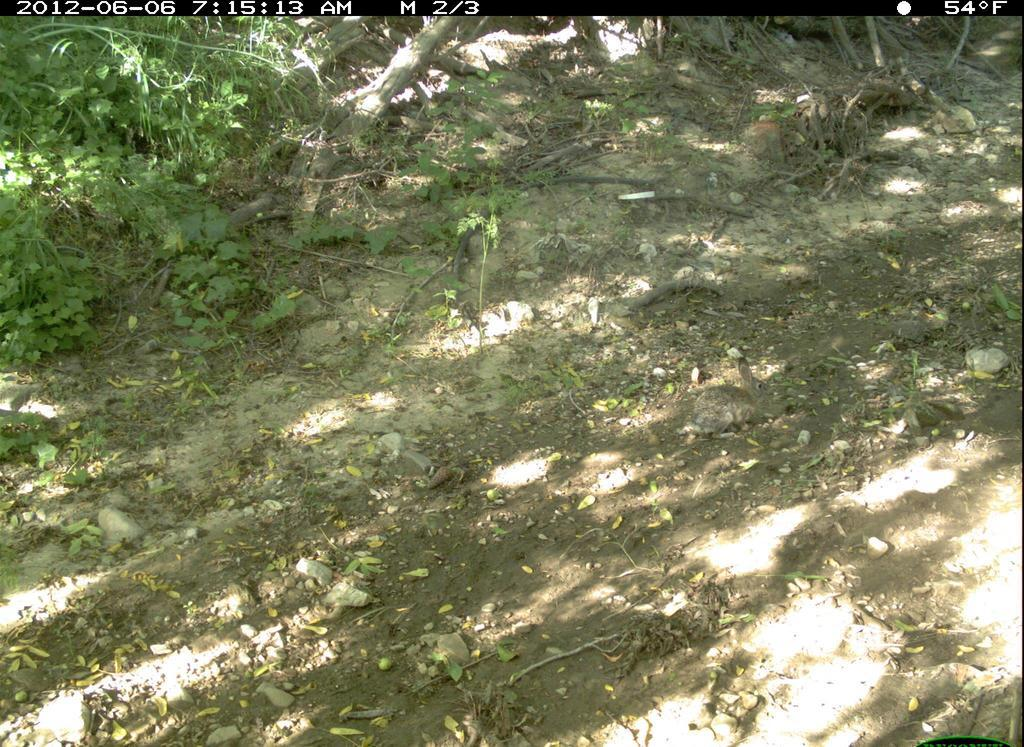rabbit: (684, 351, 771, 443)
